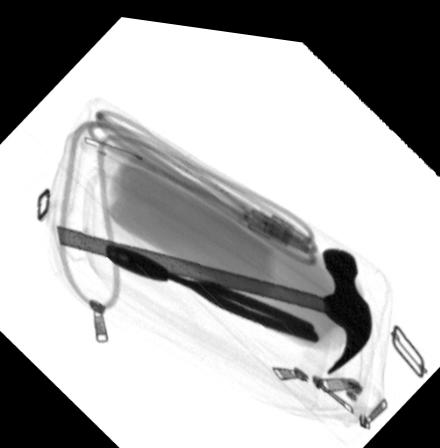Hammer: (54, 224, 372, 365)
Pliers: (104, 242, 320, 336)
